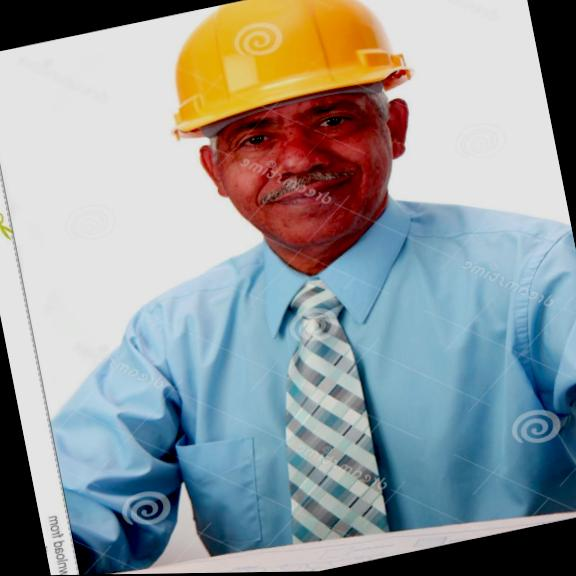no_safety_vest: (16, 173, 576, 576)
